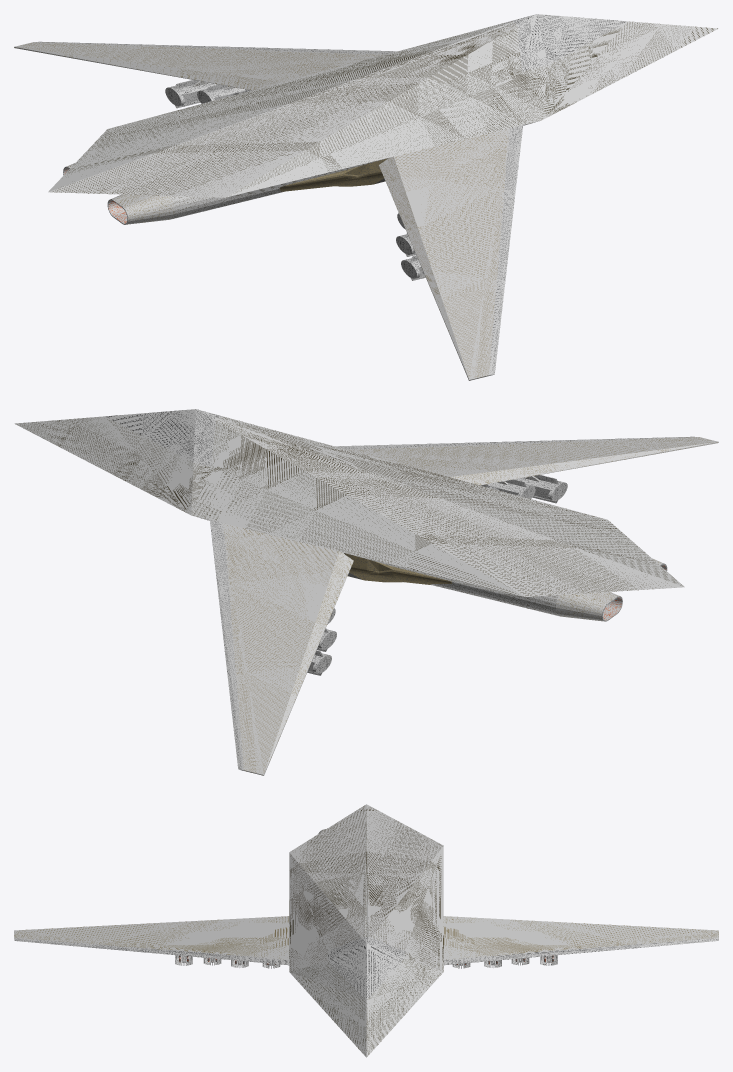
3 renders of one model, top to bottom at view 1: azimuth 30°, elevation 25°; view 2: azimuth 150°, elevation 25°; view 3: azimuth 270°, elevation 25°, orthographic. The views are drawn at different scales.
Parts seen in each view (by area): view 1: mesh40.002_mesh40-geometry, mesh21.002_mesh21-geometry, mesh34.002_mesh34-geometry, mesh39.005_mesh39-geometry, mesh38.006_mesh38-geometry; view 2: mesh40.002_mesh40-geometry, mesh34.002_mesh34-geometry, mesh21.002_mesh21-geometry, mesh39.006_mesh39-geometry, mesh38.005_mesh38-geometry; view 3: mesh40.002_mesh40-geometry, mesh34.002_mesh34-geometry, mesh21.002_mesh21-geometry.
Boxes of the visible parts, left/top/right/bottom form: mesh40.002_mesh40-geometry: left=48, top=14, right=718, bottom=197; mesh21.002_mesh21-geometry: left=379, top=125, right=523, bottom=380; mesh34.002_mesh34-geometry: left=14, top=41, right=396, bottom=90; mesh39.005_mesh39-geometry: left=107, top=187, right=283, bottom=224; mesh38.006_mesh38-geometry: left=279, top=158, right=387, bottom=191; mesh40.002_mesh40-geometry: left=14, top=409, right=684, bottom=596; mesh34.002_mesh34-geometry: left=210, top=520, right=353, bottom=775; mesh21.002_mesh21-geometry: left=335, top=436, right=718, bottom=485; mesh39.006_mesh39-geometry: left=430, top=581, right=622, bottom=621; mesh38.005_mesh38-geometry: left=344, top=553, right=451, bottom=584; mesh40.002_mesh40-geometry: left=289, top=804, right=443, bottom=1057; mesh34.002_mesh34-geometry: left=443, top=916, right=718, bottom=965; mesh21.002_mesh21-geometry: left=14, top=916, right=289, bottom=965.
Bounding box in the file's own units: 0.6437 × 0.1176 × 0.7562.
